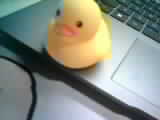duck: (38, 2, 112, 64)
